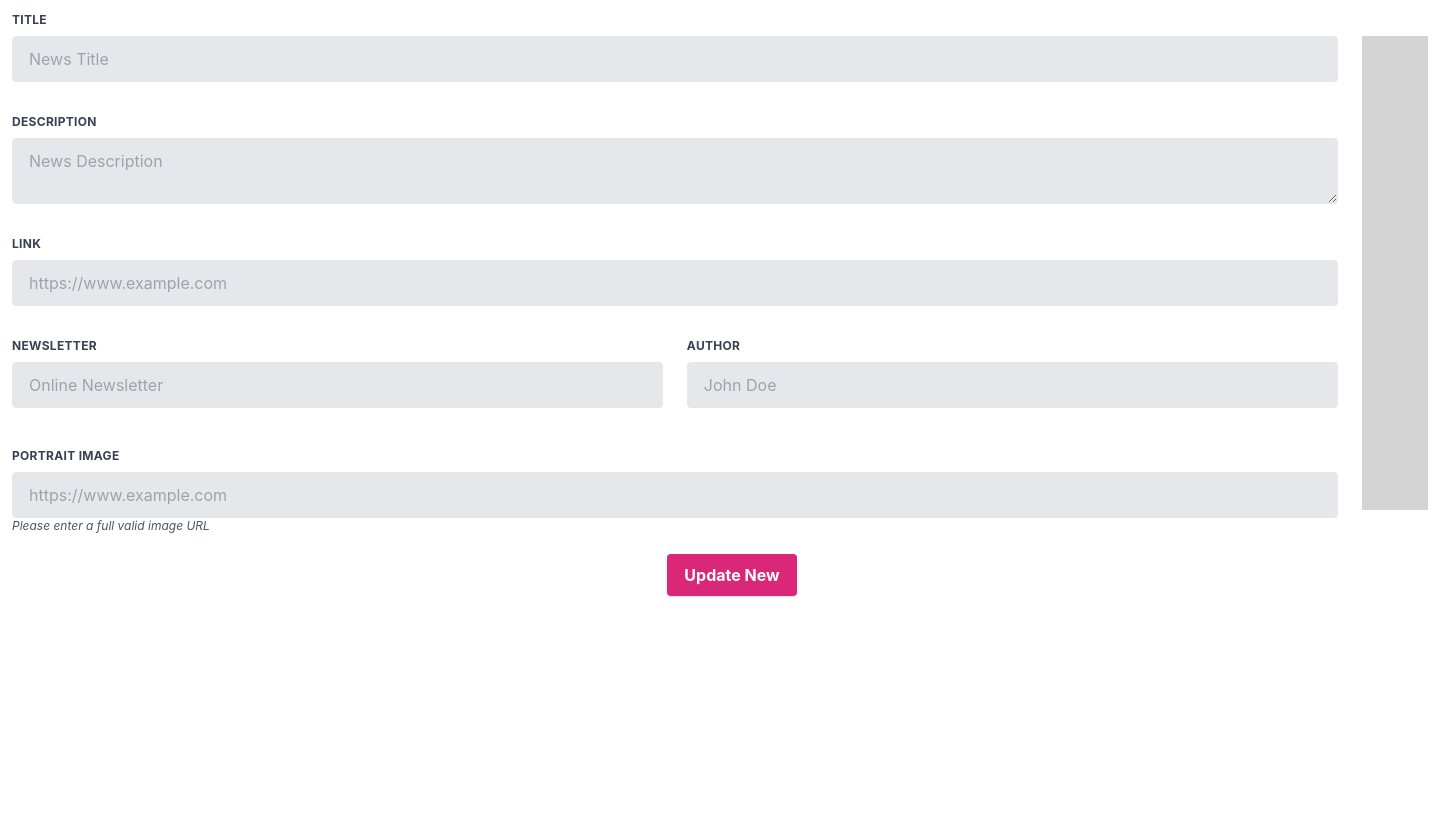
Test case: NewsDetail › shows validation errors when submitting empty form
This screenshot has width=1452, height=822.
Click the button "Update New" at [732, 575], box [667,554,797,596]
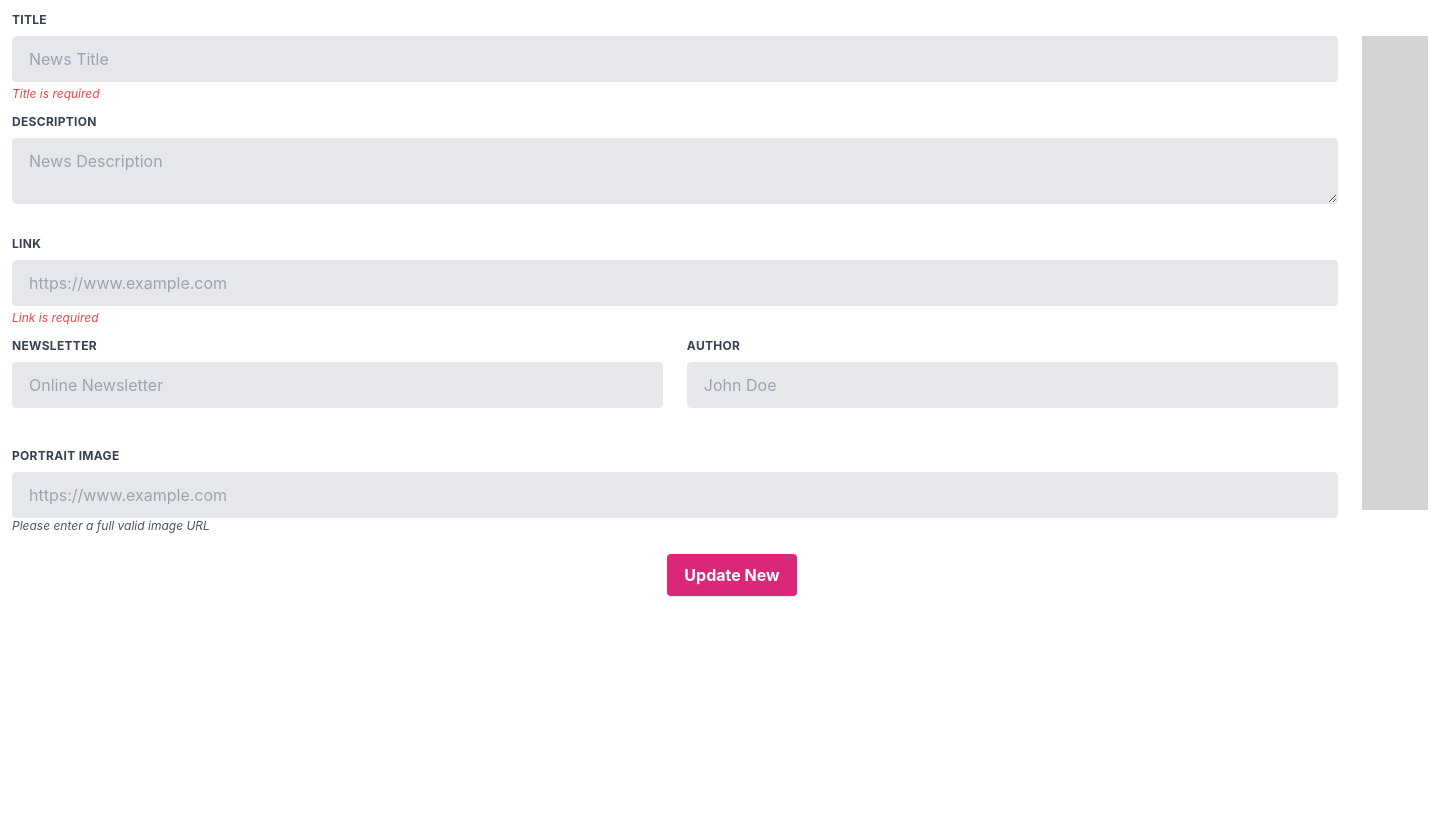
Now the text "Title is required" is shown, box [12,86,100,102]
Now the text "Link is required" is shown, box [12,310,99,326]
